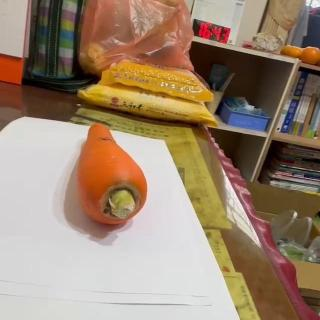carrot: (74, 123, 148, 225)
